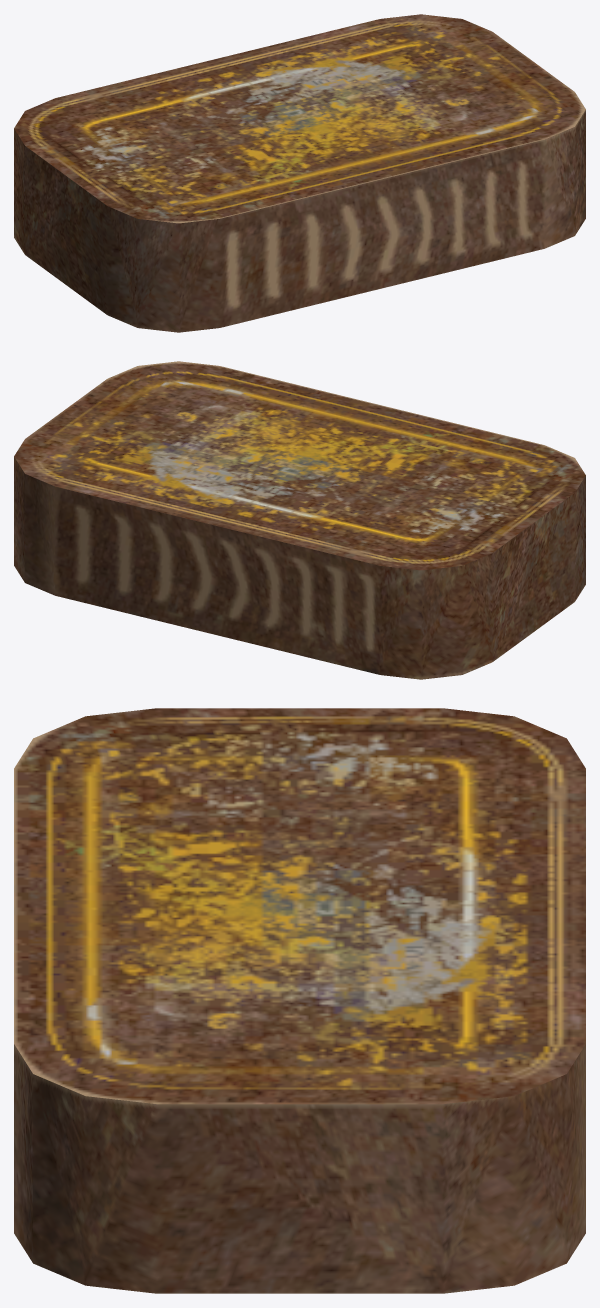
File: SM_TrashCan_05_A.fbx
3 renders of one model, top to bottom at view 1: azimuth 30°, elevation 25°; view 2: azimuth 150°, elevation 25°; view 3: azimuth 270°, elevation 25°, orthographic. The views are drawn at different scales.
Visible parts, largest first — view 1: SM_TrashCan_05_A; view 2: SM_TrashCan_05_A; view 3: SM_TrashCan_05_A.
Part boxes in pixels (x1,y1,x2,y2): SM_TrashCan_05_A: (14, 14, 585, 332); SM_TrashCan_05_A: (14, 361, 585, 679); SM_TrashCan_05_A: (14, 708, 585, 1293).
Size of the model in its own units: 18.02 by 11 by 4.02.
1 material, 1 textured.
